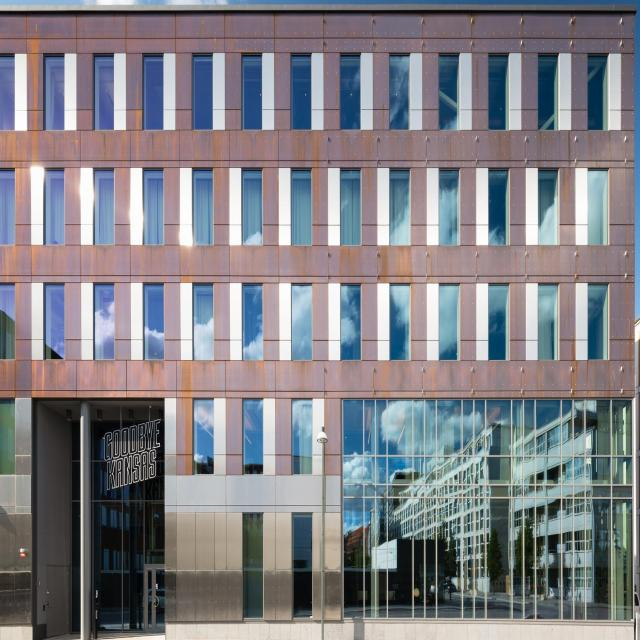door: (144, 563, 166, 635)
window: (342, 398, 634, 622), (92, 413, 166, 634), (292, 512, 315, 624), (241, 512, 264, 616), (194, 398, 215, 478), (290, 398, 310, 474), (438, 171, 458, 245), (538, 285, 557, 362), (392, 284, 411, 361), (438, 288, 457, 364), (489, 284, 508, 359), (341, 283, 359, 361), (293, 284, 311, 362), (291, 173, 311, 243), (489, 174, 508, 246), (391, 173, 410, 245), (589, 287, 607, 362), (490, 59, 509, 129), (242, 57, 261, 127), (589, 58, 608, 127), (538, 58, 557, 127), (392, 56, 411, 125), (537, 175, 556, 244), (292, 293, 311, 362), (241, 293, 260, 362), (95, 60, 114, 129), (194, 59, 213, 128), (194, 173, 213, 242), (95, 175, 114, 244), (146, 290, 165, 359), (95, 291, 114, 360), (439, 59, 457, 129), (340, 173, 358, 243), (244, 289, 262, 359), (244, 400, 262, 470), (46, 57, 64, 127), (341, 56, 359, 125), (293, 58, 311, 127), (241, 175, 259, 244), (589, 175, 607, 244), (146, 60, 164, 129), (146, 175, 164, 244), (46, 172, 64, 241), (195, 288, 213, 357), (46, 288, 64, 357), (0, 403, 16, 471), (0, 168, 14, 242), (0, 285, 14, 359), (0, 54, 14, 127)
